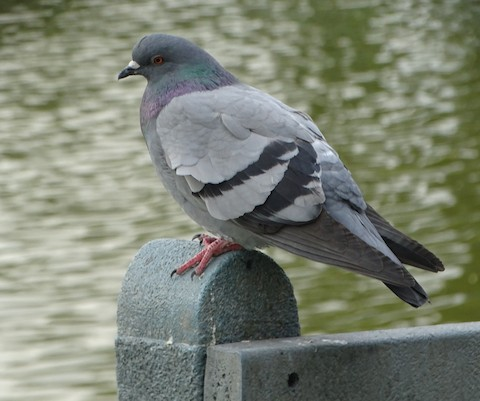pigeon: (112, 20, 454, 311)
